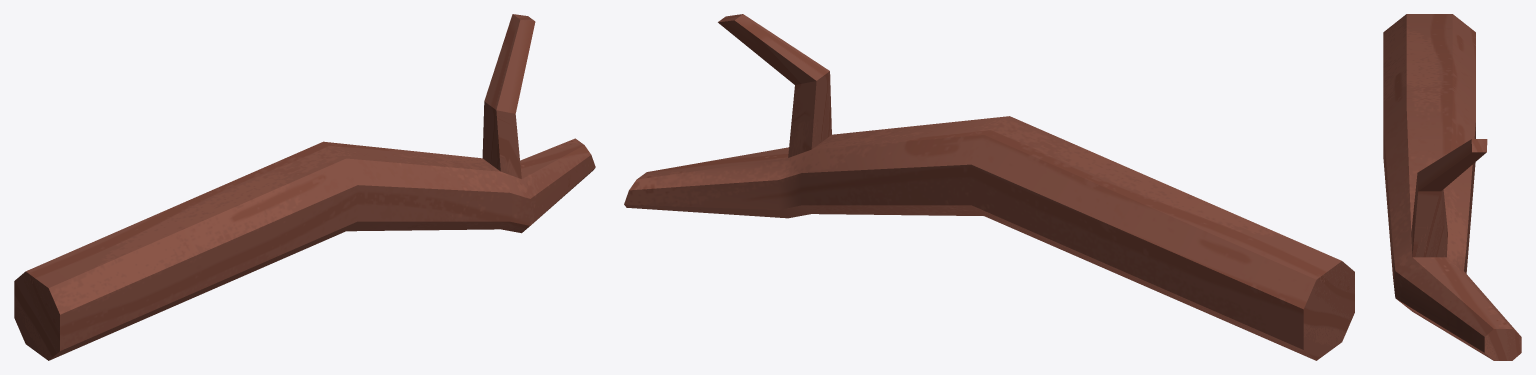
File: SM_branch2.fbx
3 views of the same model, side by side, from view 1: azimuth 30°, elevation 25°; view 2: azimuth 150°, elevation 25°; view 3: azimuth 270°, elevation 25° (orthographic). The views are drawn at different scales.
Parts seen in each view (by area): view 1: branch2; view 2: branch2; view 3: branch2.
Boxes of the visible parts, x1=… form: branch2: x1=14, y1=14, x2=595, y2=360; branch2: x1=624, y1=14, x2=1354, y2=360; branch2: x1=1383, y1=14, x2=1521, y2=360.
Bounding box in the file's own units: 9 × 2.85 × 1.82.
